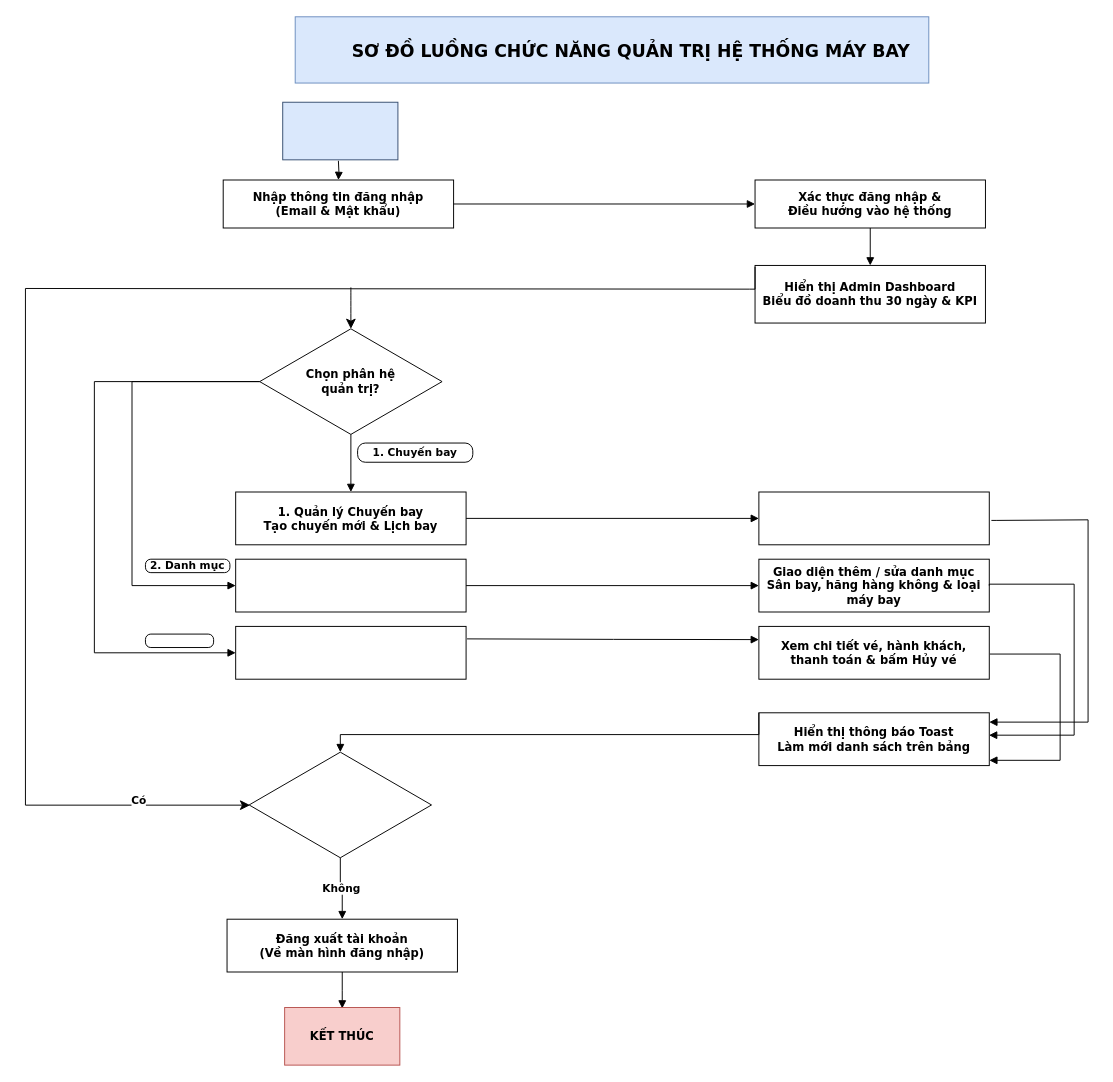
Some shapes in this 1113 by 1082 pixel diagram are drawn without their labels. Each missing label, with the centre of its shape:
"2. Danh mục Hàng không Sân bay, Hãng bay, Tàu bay" goes at [350,585].
"3. Quản lý Đặt vé Tra cứu PNR & Hủy vé" goes at [350,652].
"3. Đặt vé" goes at [179,640].
"BẮT ĐẦU" goes at [340,130].
"Form nhập chuyến bay, giá vé & cập nhật trạng thái bay" goes at [873,518].
"Tiếp tục thao tác?" goes at [340,804].
